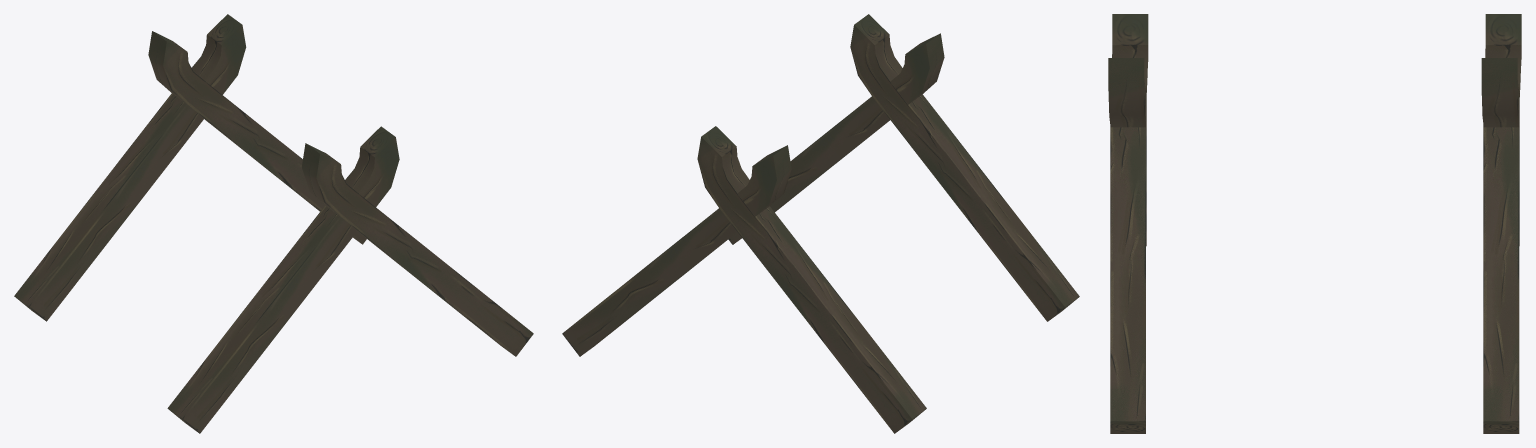
File: polysurface580_txt_poutre_inc_0_lev1_lev2.glb
The picture shows the model from 3 angles, left to right: view 1: azimuth 30°, elevation 25°; view 2: azimuth 150°, elevation 25°; view 3: azimuth 270°, elevation 25°; orthographic projection. The views are drawn at different scales.
Visible parts, largest first — view 1: polysurface580_txt_poutre_inc_0_lev1_lev2; view 2: polysurface580_txt_poutre_inc_0_lev1_lev2; view 3: polysurface580_txt_poutre_inc_0_lev1_lev2.
Part boxes in pixels (x1,y1,x2,y2): polysurface580_txt_poutre_inc_0_lev1_lev2: (14,14,533,433); polysurface580_txt_poutre_inc_0_lev1_lev2: (562,14,1079,433); polysurface580_txt_poutre_inc_0_lev1_lev2: (1108,14,1521,433).
Size of the model in its own units: 8.45 by 5.74 by 7.06.
1 material, 1 textured.
